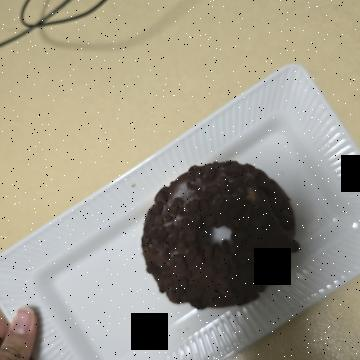doughnut: (155, 55, 332, 229)
